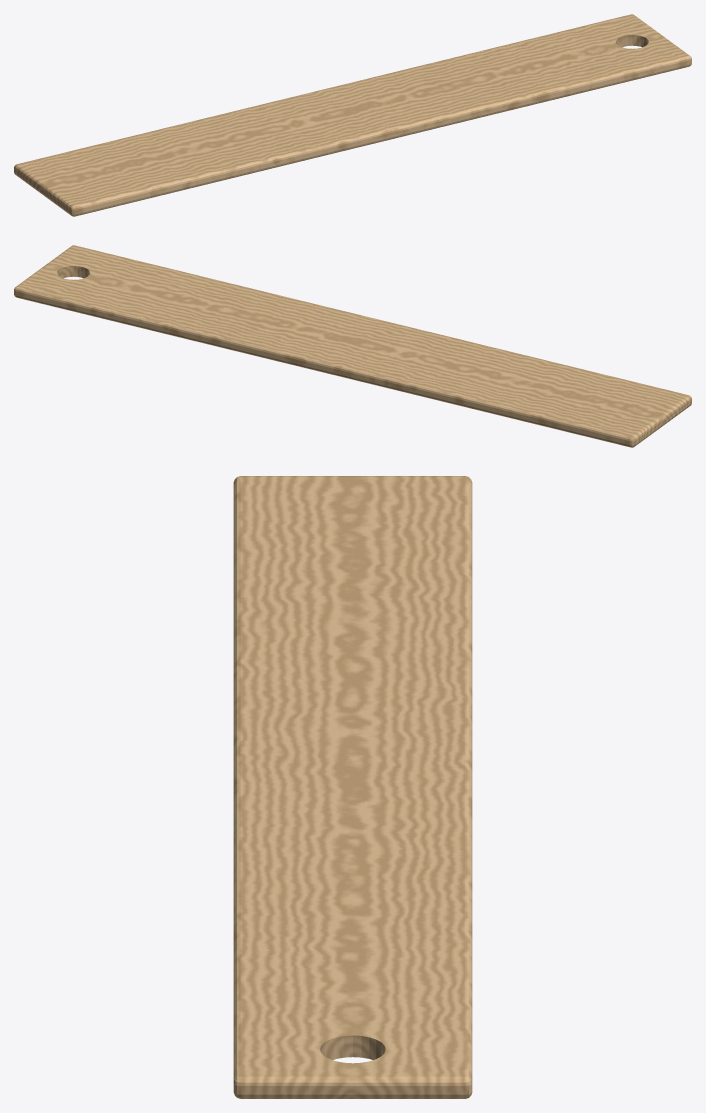
The model's file is cutting_board.glb.
3 renders of one model, top to bottom at view 1: azimuth 30°, elevation 25°; view 2: azimuth 150°, elevation 25°; view 3: azimuth 270°, elevation 25°, orthographic. The views are drawn at different scales.
Visible parts, largest first — view 1: board; view 2: board; view 3: board.
Part boxes in pixels (x1,y1,x2,y2): board: [14, 14, 691, 216]; board: [14, 245, 691, 447]; board: [233, 476, 472, 1098].
Bounding box in the file's own units: 24 × 0.4 × 4.
1 material, 1 textured.
